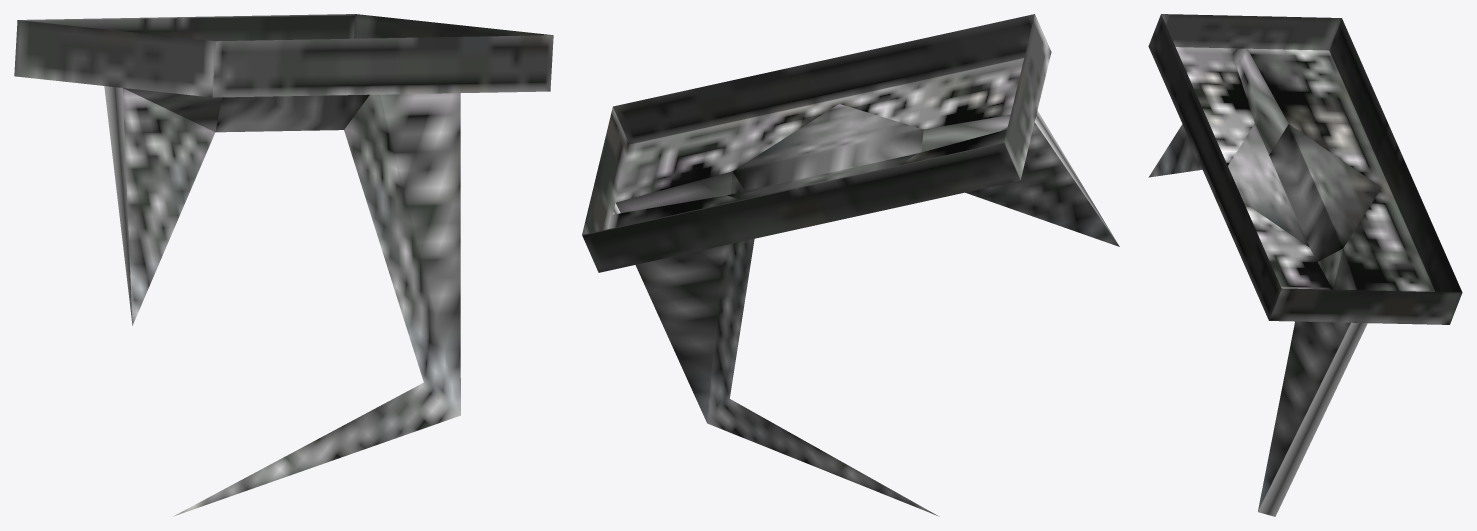
File: star_destroyer_hangar_detail_destroyed_l3.fbx
3 views of the same model, side by side, from view 1: azimuth 30°, elevation 25°; view 2: azimuth 150°, elevation 25°; view 3: azimuth 270°, elevation 25° (orthographic). The views are drawn at different scales.
Parts seen in each view (by area): view 1: mesh_node; view 2: mesh_node; view 3: mesh_node.
Boxes of the visible parts, x1,y1,x2,y2 form: mesh_node: (14,14,553,516); mesh_node: (582,14,1119,516); mesh_node: (1148,14,1462,516).
Bounding box in the file's own units: 46.14 × 46.87 × 31.99.
1 material, 1 textured.
